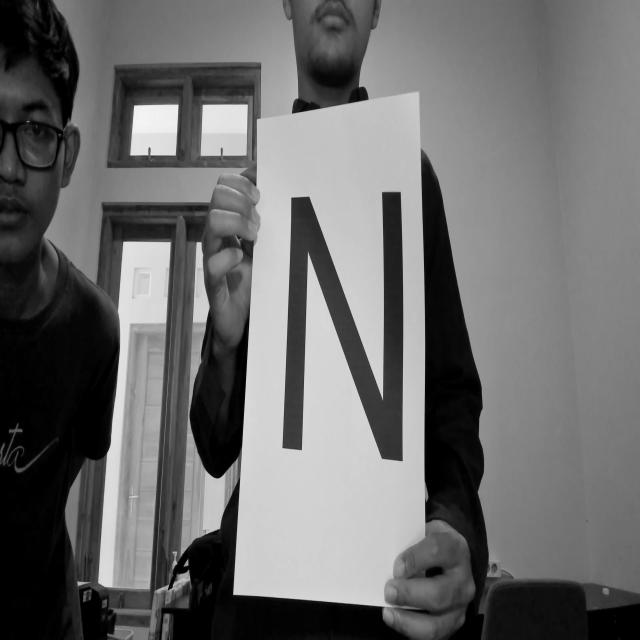n: (269, 166, 420, 486)
